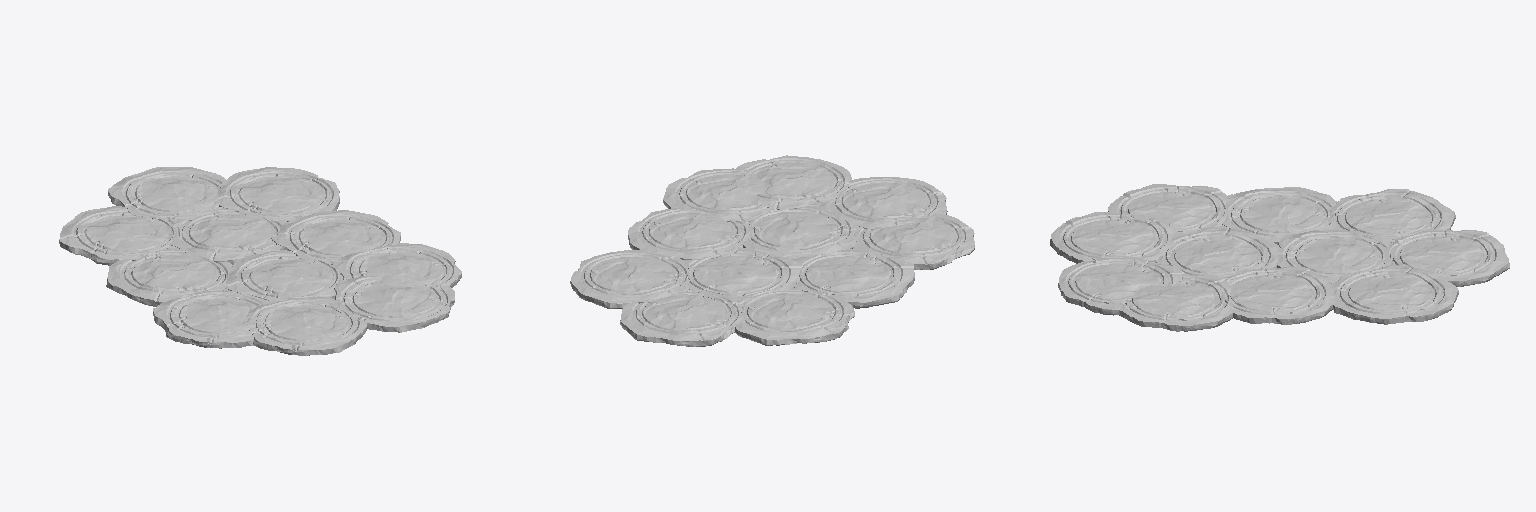
File: Ground.OBJ
The picture shows the model from 3 angles: view 1: azimuth 30°, elevation 25°; view 2: azimuth 150°, elevation 25°; view 3: azimuth 270°, elevation 25°; orthographic projection.
Visible parts, largest first — view 1: Group22384, Group22264, Group22279, Group22294, Group22324, Group22219, Group22249, Group22234, Group22204; view 2: Group22384, Group22279, Group22219, Group22264, Group22294, Group22249, Group22234, Group22204, Group22324; view 3: Group22384, Group22264, Group22249, Group22219, Group22279, Group22294, Group22324, Group22234, Group22204.
Part boxes in pixels (bbox=[...]): Group22384: bbox=[153, 243, 461, 355]; Group22264: bbox=[214, 167, 339, 221]; Group22279: bbox=[59, 206, 183, 265]; Group22294: bbox=[106, 248, 232, 306]; Group22324: bbox=[333, 276, 454, 332]; Group22219: bbox=[108, 167, 230, 220]; Group22249: bbox=[271, 210, 400, 264]; Group22234: bbox=[225, 250, 345, 303]; Group22204: bbox=[167, 208, 286, 264]; Group22384: bbox=[663, 168, 974, 269]; Group22279: bbox=[728, 286, 854, 345]; Group22219: bbox=[620, 289, 748, 346]; Group22264: bbox=[570, 250, 694, 308]; Group22294: bbox=[794, 248, 914, 308]; Group22249: bbox=[628, 207, 754, 259]; Group22234: bbox=[736, 206, 856, 260]; Group22204: bbox=[677, 248, 802, 301]; Group22324: bbox=[732, 155, 852, 209]; Group22384: bbox=[1050, 184, 1237, 331]; Group22264: bbox=[1330, 264, 1458, 324]; Group22249: bbox=[1215, 266, 1339, 324]; Group22219: bbox=[1380, 229, 1509, 286]; Group22279: bbox=[1326, 189, 1455, 243]; Group22294: bbox=[1220, 187, 1342, 244]; Group22324: bbox=[1058, 256, 1183, 315]; Group22234: bbox=[1154, 226, 1279, 280]; Group22204: bbox=[1275, 229, 1398, 283].
Bounding box in the file's own units: 16.02 × 0.563 × 21.9.